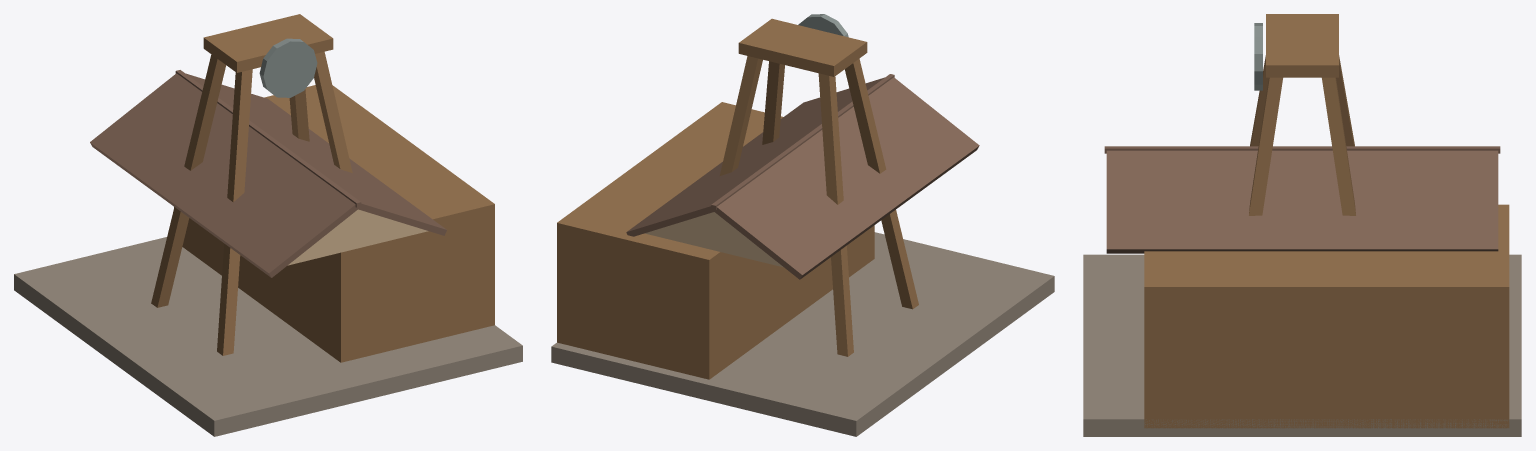
The model's file is arizona-mine-headframe_lod1.glb.
The picture shows the model from 3 angles, left to right: view 1: azimuth 30°, elevation 25°; view 2: azimuth 150°, elevation 25°; view 3: azimuth 270°, elevation 25°; orthographic projection. The views are drawn at different scales.
Visible parts, largest first — view 1: RF_AZ_Mine_Base, RF_AZ_Mine_Shed, RF_AZ_MineShed_RoofLeft, RF_AZ_MineShed_RoofRight, RF_AZ_Mine_Leg, RF_AZ_Mine_Top, RF_AZ_Mine_Leg.001, RF_AZ_MineShed_Gable, RF_AZ_Mine_Sheave, RF_AZ_Mine_Leg.002, RF_AZ_MineShed_Ridge, RF_AZ_Mine_Leg.003; view 2: RF_AZ_Mine_Shed, RF_AZ_Mine_Base, RF_AZ_MineShed_RoofLeft, RF_AZ_MineShed_RoofRight, RF_AZ_Mine_Top, RF_AZ_Mine_Leg.001, RF_AZ_Mine_Leg, RF_AZ_MineShed_Gable.001, RF_AZ_Mine_Leg.003, RF_AZ_Mine_Leg.002, RF_AZ_MineShed_Ridge, RF_AZ_Mine_Sheave; view 3: RF_AZ_Mine_Shed, RF_AZ_MineShed_RoofRight, RF_AZ_Mine_Base, RF_AZ_Mine_Top, RF_AZ_Mine_Leg.002, RF_AZ_Mine_Leg.003, RF_AZ_MineShed_Ridge, RF_AZ_Mine_Leg.001, RF_AZ_Mine_Leg, RF_AZ_Mine_Sheave.
Part boxes in pixels (x1,y1,x2,y2): RF_AZ_Mine_Base: (14, 237, 522, 436); RF_AZ_Mine_Shed: (174, 85, 494, 362); RF_AZ_MineShed_RoofLeft: (90, 73, 359, 277); RF_AZ_MineShed_RoofRight: (186, 73, 446, 235); RF_AZ_Mine_Leg: (217, 69, 252, 355); RF_AZ_Mine_Top: (203, 14, 333, 72); RF_AZ_Mine_Leg.001: (151, 54, 226, 307); RF_AZ_MineShed_Gable: (288, 209, 428, 265); RF_AZ_Mine_Sheave: (259, 38, 317, 97); RF_AZ_Mine_Leg.002: (314, 51, 352, 172); RF_AZ_MineShed_Ridge: (175, 70, 361, 207); RF_AZ_Mine_Leg.003: (289, 89, 309, 141); RF_AZ_Mine_Shed: (557, 102, 874, 379); RF_AZ_Mine_Base: (551, 232, 1054, 436); RF_AZ_MineShed_RoofLeft: (713, 77, 979, 279); RF_AZ_MineShed_RoofRight: (626, 77, 884, 236); RF_AZ_Mine_Top: (738, 18, 867, 76); RF_AZ_Mine_Leg.001: (818, 73, 853, 356); RF_AZ_Mine_Leg: (845, 58, 918, 309); RF_AZ_MineShed_Gable.001: (645, 212, 783, 267); RF_AZ_Mine_Leg.003: (719, 56, 762, 175); RF_AZ_Mine_Leg.002: (762, 61, 784, 144); RF_AZ_MineShed_Ridge: (711, 74, 894, 210); RF_AZ_Mine_Sheave: (798, 14, 848, 37); RF_AZ_Mine_Shed: (1144, 204, 1509, 428); RF_AZ_MineShed_RoofRight: (1106, 150, 1498, 253); RF_AZ_Mine_Base: (1083, 254, 1521, 436); RF_AZ_Mine_Top: (1266, 14, 1338, 77); RF_AZ_Mine_Leg.002: (1249, 77, 1282, 215); RF_AZ_Mine_Leg.003: (1322, 77, 1355, 215); RF_AZ_MineShed_Ridge: (1104, 146, 1500, 153); RF_AZ_Mine_Leg.001: (1336, 55, 1354, 146); RF_AZ_Mine_Leg: (1250, 55, 1268, 146); RF_AZ_Mine_Sheave: (1254, 23, 1262, 90).
Size of the model in its own units: 16 by 14.9 by 18.
